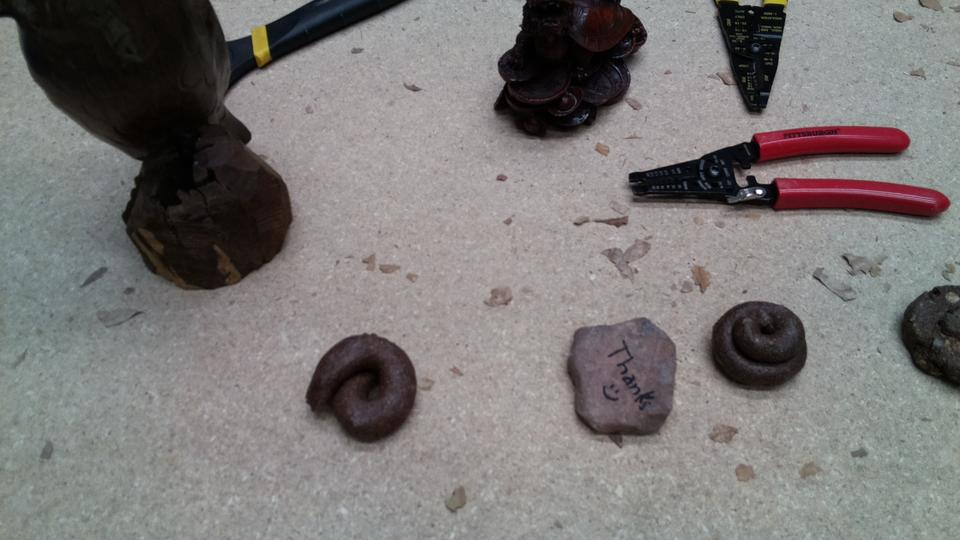poop: (302, 332, 418, 445), (707, 299, 809, 393), (897, 282, 960, 398)
